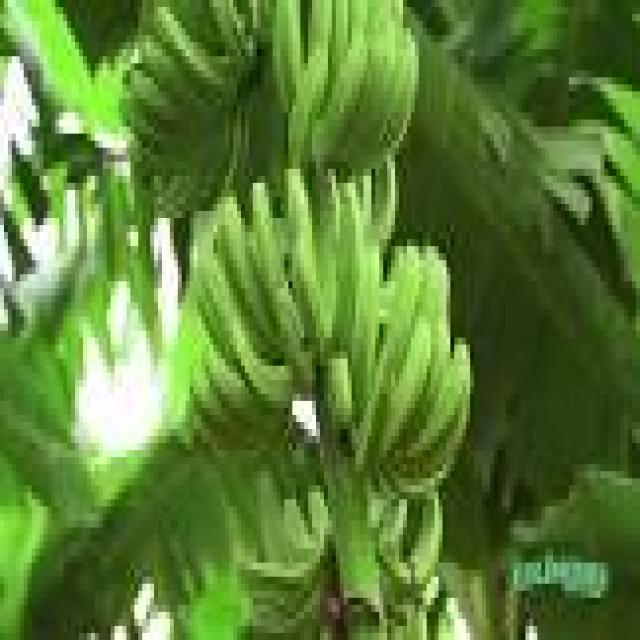banana: (356, 247, 422, 471), (384, 345, 470, 499), (253, 183, 308, 379), (214, 197, 280, 358), (344, 22, 402, 168), (285, 169, 327, 351), (376, 317, 430, 457), (313, 29, 367, 168), (407, 345, 470, 457), (155, 8, 233, 98), (348, 240, 383, 421), (234, 331, 296, 414), (380, 29, 418, 154), (336, 183, 363, 351), (289, 50, 327, 168), (273, 0, 304, 112), (411, 493, 442, 590), (372, 155, 399, 246), (210, 0, 248, 63), (324, 352, 355, 429), (328, 0, 351, 77), (309, 0, 335, 56)
